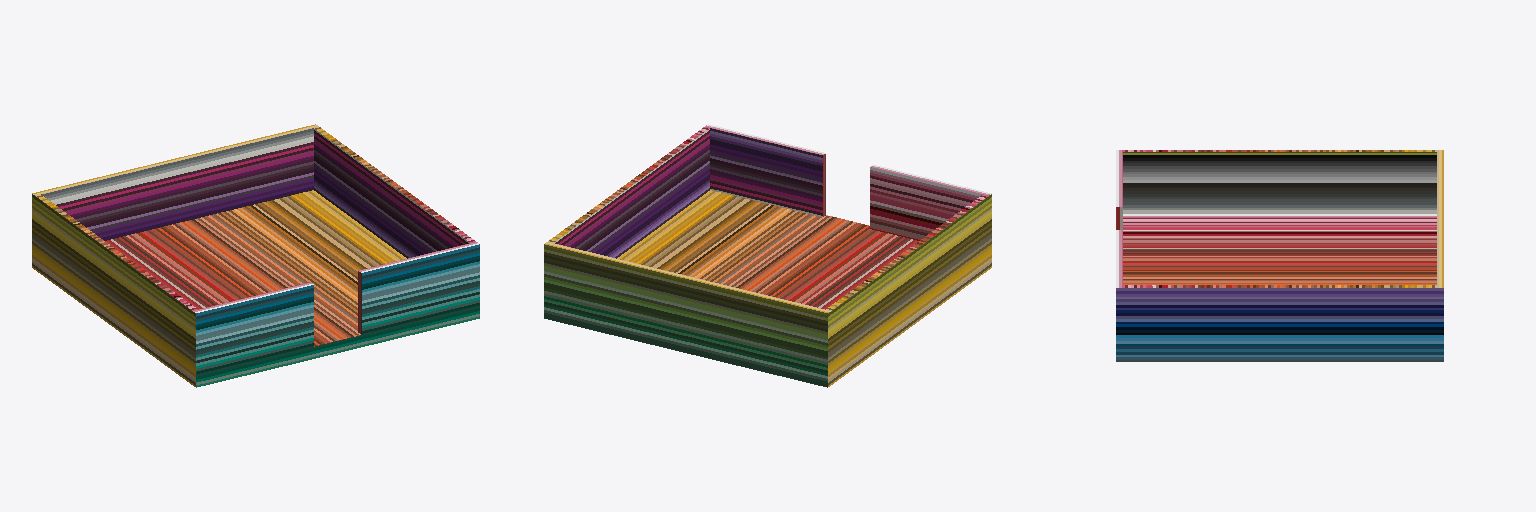
The picture shows the model from 3 angles: view 1: azimuth 30°, elevation 25°; view 2: azimuth 150°, elevation 25°; view 3: azimuth 270°, elevation 25°; orthographic projection.
Parts seen in each view (by area): view 1: open-room-01_open-room-01; view 2: open-room-01_open-room-01; view 3: open-room-01_open-room-01.
Boxes of the visible parts, <box> form: open-room-01_open-room-01: <box>32,124,479,387</box>; open-room-01_open-room-01: <box>544,124,991,387</box>; open-room-01_open-room-01: <box>1116,150,1443,361</box>.
Bounding box in the file's own units: 48 × 12 × 48.
1 materials, 1 textured.